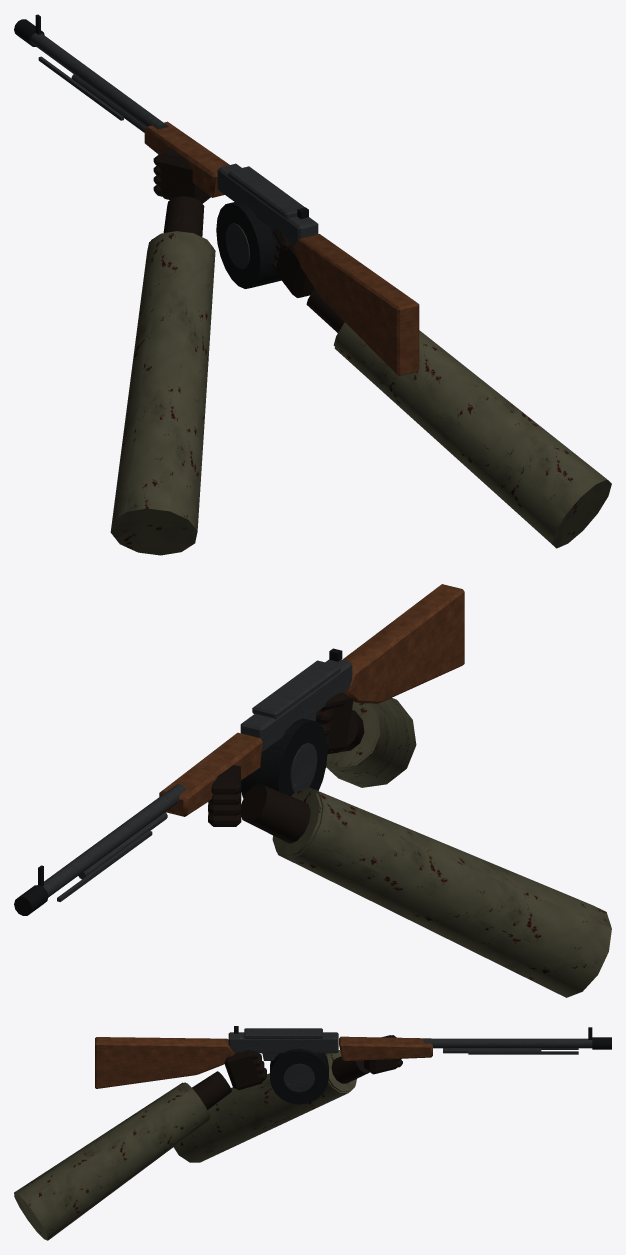
Rendered from rpd.gltf.
The picture shows the model from 3 angles, top to bottom: view 1: azimuth 30°, elevation 25°; view 2: azimuth 150°, elevation 25°; view 3: azimuth 270°, elevation 25°; orthographic projection. The views are drawn at different scales.
Parts seen in each view (by area): view 1: Body, ArmL, Mag; view 2: ArmL, Body, Mag; view 3: Body, ArmL, Mag.
Part boxes in pixels (x1,y1,x2,y2): Body: (14, 14, 611, 548); ArmL: (110, 148, 215, 555); Mag: (216, 201, 281, 288); ArmL: (208, 765, 611, 997); Body: (14, 584, 464, 915); Mag: (241, 718, 327, 798); Body: (14, 1026, 611, 1240); ArmL: (173, 1035, 402, 1162); Mag: (270, 1048, 328, 1104).
Size of the model in its own units: 0.7412 by 0.5339 by 1.52.
6 materials, 6 textured.
